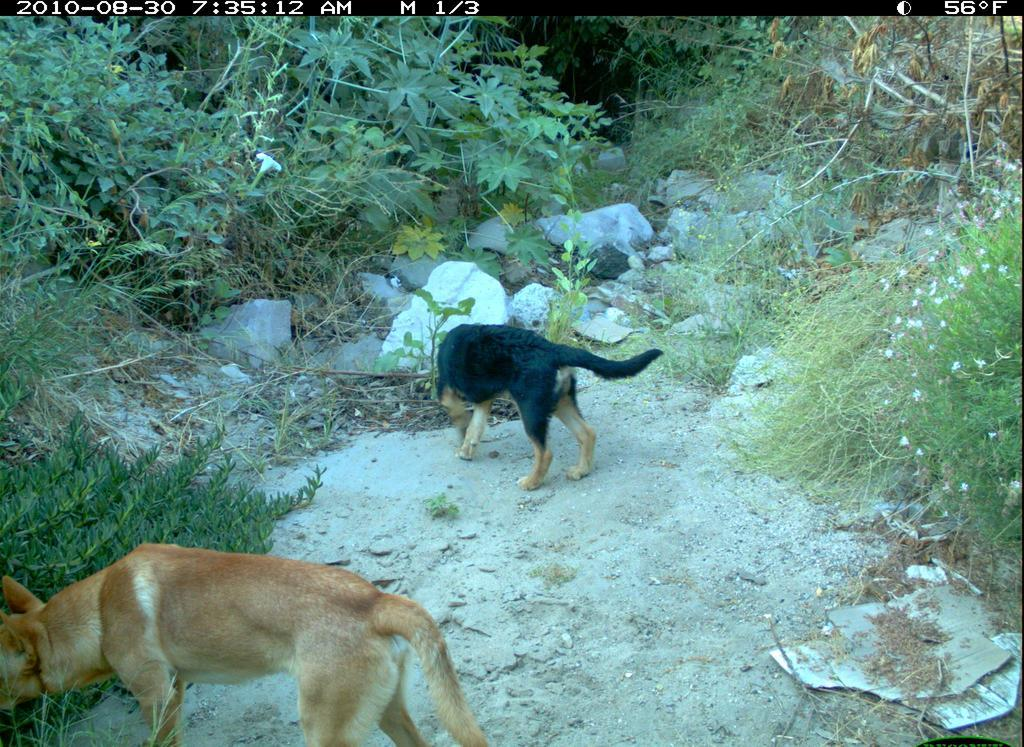dog: (8, 543, 496, 745), (422, 319, 666, 497)
